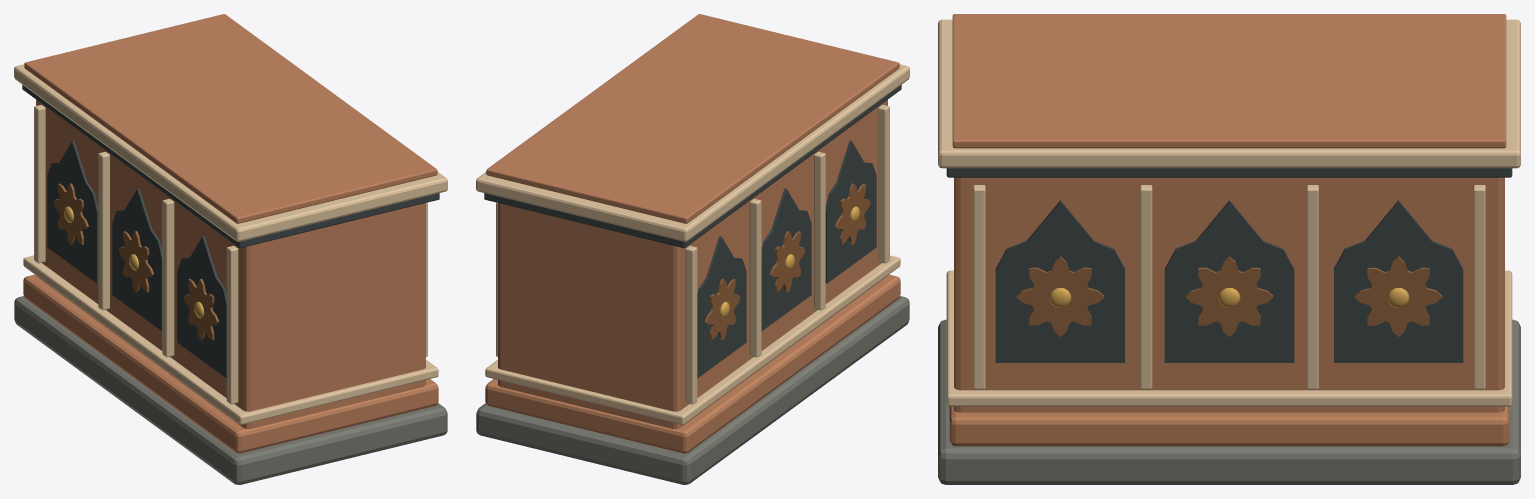
File: cover-bell-screen.glb
The picture shows the model from 3 angles, left to right: view 1: azimuth 30°, elevation 25°; view 2: azimuth 150°, elevation 25°; view 3: azimuth 270°, elevation 25°; orthographic projection. The views are drawn at different scales.
Parts seen in each view (by area): view 1: Ridge coping, Screen opaque masonry, Heel | river granite, Undercut skirt, Drip course, Carved stringcourse, Bell niche 1.1, Bell niche 1.0, Bell niche 1.-1, Capital shadow line, Fluted bay jamb.005, Fluted bay jamb.004 (+5 smaller); view 2: Ridge coping, Screen opaque masonry, Heel | river granite, Undercut skirt, Drip course, Carved stringcourse, Bell niche 1.-1, Bell niche 1.0, Bell niche 1.1, Capital shadow line, Fluted bay jamb.006, Fluted bay jamb.007 (+5 smaller); view 3: Ridge coping, Screen opaque masonry, Heel | river granite, Undercut skirt, Drip course, Bell niche -1.0, Bell niche -1.-1, Bell niche -1.1, Carved stringcourse, Capital shadow line, Cast sound flower -1.-1, Cast sound flower -1.1 (+5 smaller).
Part boxes in pixels (x1,y1,x2,y2): Ridge coping: (24,14,437,223); Screen opaque masonry: (36,99,425,429); Heel | river granite: (14,296,447,484); Undercut skirt: (23,274,438,453); Drip course: (14,64,447,241); Carved stringcourse: (23,255,438,424); Bell niche 1.1: (47,140,98,283); Bell niche 1.0: (112,188,162,330); Bell niche 1.-1: (177,236,226,378); Capital shadow line: (22,85,439,248); Fluted bay jamb.005: (162,198,174,357); Fluted bay jamb.004: (226,245,238,404); Ridge coping: (486,14,899,223); Screen opaque masonry: (498,99,887,429); Heel | river granite: (476,296,909,484); Undercut skirt: (485,274,900,453); Drip course: (476,64,909,241); Carved stringcourse: (485,255,900,424); Bell niche 1.-1: (825,140,876,283); Bell niche 1.0: (761,188,811,330); Bell niche 1.1: (697,236,746,378); Capital shadow line: (484,85,901,248); Fluted bay jamb.006: (749,198,761,357); Fluted bay jamb.007: (685,245,697,404); Ridge coping: (952,14,1506,148); Screen opaque masonry: (954,177,1504,412); Heel | river granite: (938,319,1520,484); Undercut skirt: (949,406,1509,446); Drip course: (938,19,1520,168); Bell niche -1.0: (1164,200,1294,362); Bell niche -1.-1: (995,200,1124,362); Bell niche -1.1: (1334,200,1463,362); Carved stringcourse: (946,270,1512,406); Capital shadow line: (946,168,1512,177); Cast sound flower -1.-1: (1016,256,1104,336); Cast sound flower -1.1: (1354,256,1442,336).
Size of the model in its own units: 2.2 by 2.6 by 4.
